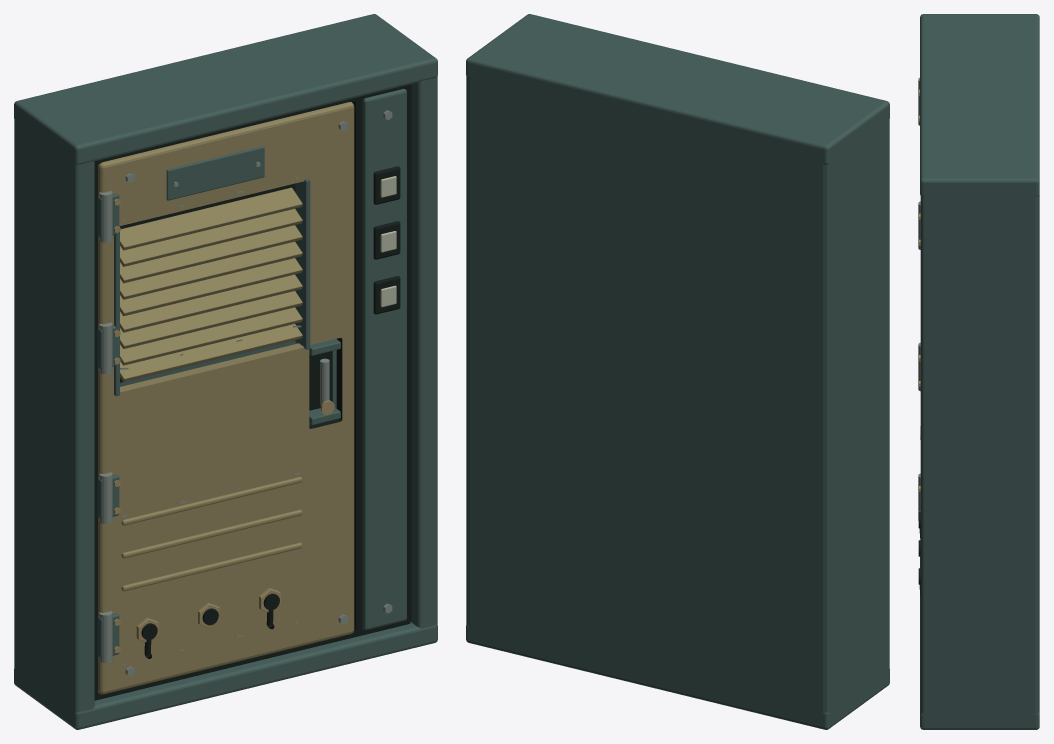
The model's file is rescue-power-cabinet.glb.
3 views of the same model, side by side, from view 1: azimuth 30°, elevation 25°; view 2: azimuth 150°, elevation 25°; view 3: azimuth 270°, elevation 25° (orthographic). The views are drawn at different scales.
Parts seen in each view (by area): view 1: rescue_power_teal, rescue_power_ochre, rescue_power_rubber, rescue_power_steel, rescue_power_brass, rescue_power_ivory; view 2: rescue_power_teal; view 3: rescue_power_teal, rescue_power_steel.
Boxes of the visible parts, bbox=[...] form: rescue_power_teal: bbox=[14, 14, 437, 729]; rescue_power_ochre: bbox=[98, 102, 354, 694]; rescue_power_rubber: bbox=[94, 84, 411, 700]; rescue_power_steel: bbox=[99, 110, 392, 676]; rescue_power_brass: bbox=[114, 198, 334, 653]; rescue_power_ivory: bbox=[380, 176, 396, 307]; rescue_power_teal: bbox=[466, 14, 889, 729]; rescue_power_teal: bbox=[920, 14, 1039, 729]; rescue_power_steel: bbox=[918, 77, 920, 520].
Bounding box in the file's own units: 2.08 × 3.2 × 0.64.
